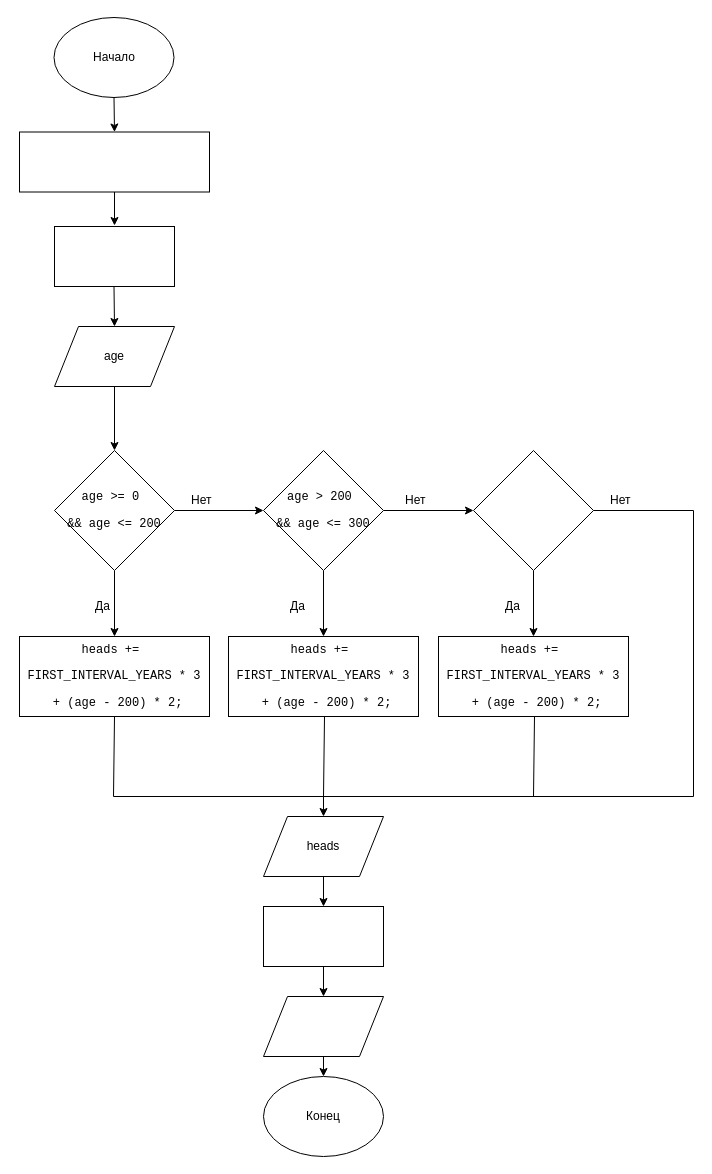
Image size: 712x1174. Some labels were removed from this diagram. The box of each missing label's shape, as (x1, y1, x2, y2) in pixels:
age > 300: (472, 450, 594, 570)
eyes: (262, 996, 384, 1056)
heads = START_HEADS_NUMBER: (54, 226, 174, 286)
int eyes = heads * 2 ;: (262, 906, 384, 966)
START_HEADS_NUMBER = 3; FIRST_INTERVAL_YEARS = 200 SECOND_INTERVAL_YEARS = 100: (18, 131, 210, 192)
